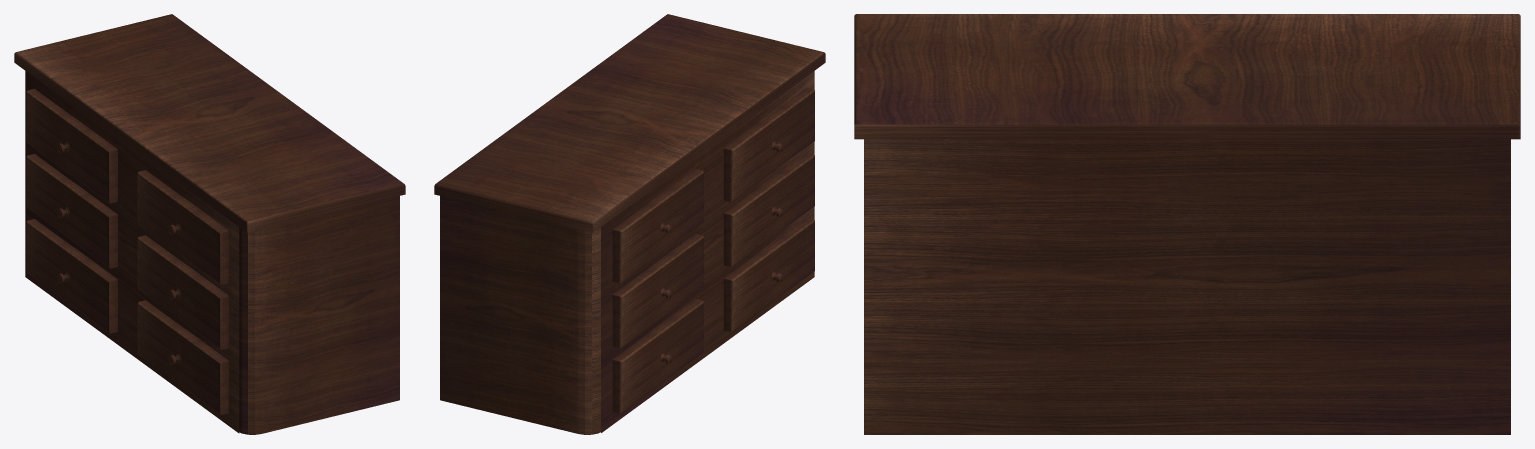
File: dresser.obj
3 renders of one model, left to right at view 1: azimuth 30°, elevation 25°; view 2: azimuth 150°, elevation 25°; view 3: azimuth 270°, elevation 25°, orthographic. The views are drawn at different scales.
Visible parts, largest first — view 1: Dresser_Unit_GrouppCube3, polySurface9Dresser_Unit_Group polySurface49 polySurface16, polySurface9Dresser_Unit_Group polySurface16 polySurface50, DrawerpCube4 polySurface25, polySurface11 DrawerpCube4, DrawerpCube4 polySurface37, DrawerpCube4 polySurface43, DrawerpCube4 polySurface22, DrawerpCube4 polySurface31; view 2: Dresser_Unit_GrouppCube3, polySurface9Dresser_Unit_Group polySurface49 polySurface16, polySurface9Dresser_Unit_Group polySurface16 polySurface50, DrawerpCube4 polySurface25, polySurface11 DrawerpCube4, DrawerpCube4 polySurface31, DrawerpCube4 polySurface37, DrawerpCube4 polySurface22, DrawerpCube4 polySurface43; view 3: polySurface9Dresser_Unit_Group polySurface49 polySurface16, Dresser_Unit_GrouppCube3.
Part boxes in pixels (bbox=[...]): Dresser_Unit_GrouppCube3: bbox=[14, 14, 405, 232]; polySurface9Dresser_Unit_Group polySurface49 polySurface16: bbox=[239, 196, 399, 434]; polySurface9Dresser_Unit_Group polySurface16 polySurface50: bbox=[25, 71, 239, 433]; DrawerpCube4 polySurface25: bbox=[137, 235, 228, 349]; polySurface11 DrawerpCube4: bbox=[26, 88, 117, 203]; DrawerpCube4 polySurface37: bbox=[26, 219, 117, 333]; DrawerpCube4 polySurface43: bbox=[137, 300, 228, 414]; DrawerpCube4 polySurface22: bbox=[137, 170, 228, 284]; DrawerpCube4 polySurface31: bbox=[26, 154, 117, 268]; Dresser_Unit_GrouppCube3: bbox=[434, 14, 825, 232]; polySurface9Dresser_Unit_Group polySurface49 polySurface16: bbox=[440, 196, 600, 434]; polySurface9Dresser_Unit_Group polySurface16 polySurface50: bbox=[601, 71, 814, 432]; DrawerpCube4 polySurface25: bbox=[723, 152, 814, 266]; polySurface11 DrawerpCube4: bbox=[612, 169, 703, 283]; DrawerpCube4 polySurface31: bbox=[612, 234, 703, 348]; DrawerpCube4 polySurface37: bbox=[612, 299, 703, 413]; DrawerpCube4 polySurface22: bbox=[723, 87, 814, 201]; DrawerpCube4 polySurface43: bbox=[723, 217, 814, 332]; polySurface9Dresser_Unit_Group polySurface49 polySurface16: bbox=[864, 139, 1510, 434]; Dresser_Unit_GrouppCube3: bbox=[854, 14, 1520, 139].
Size of the model in its own units: 3.53 by 4.2 by 8.11.
